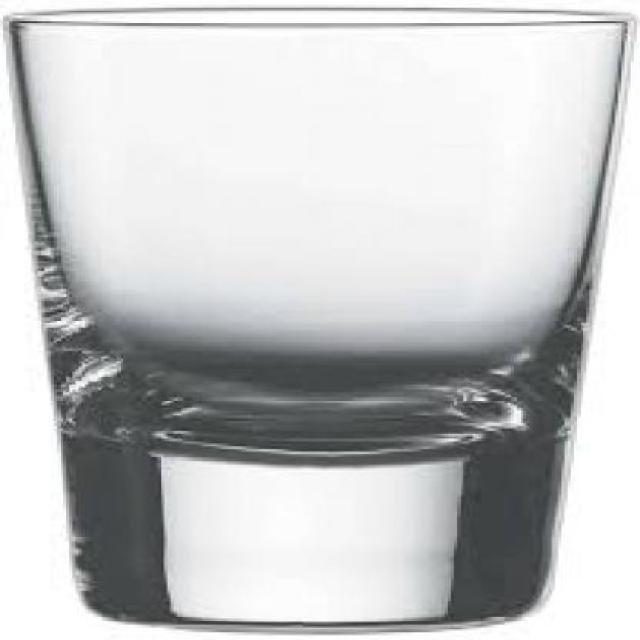kaca: (3, 3, 628, 628)
